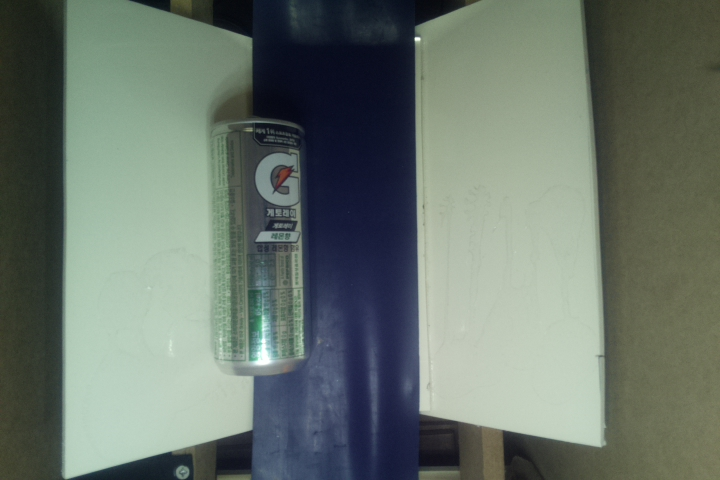can: (208, 115, 308, 378)
